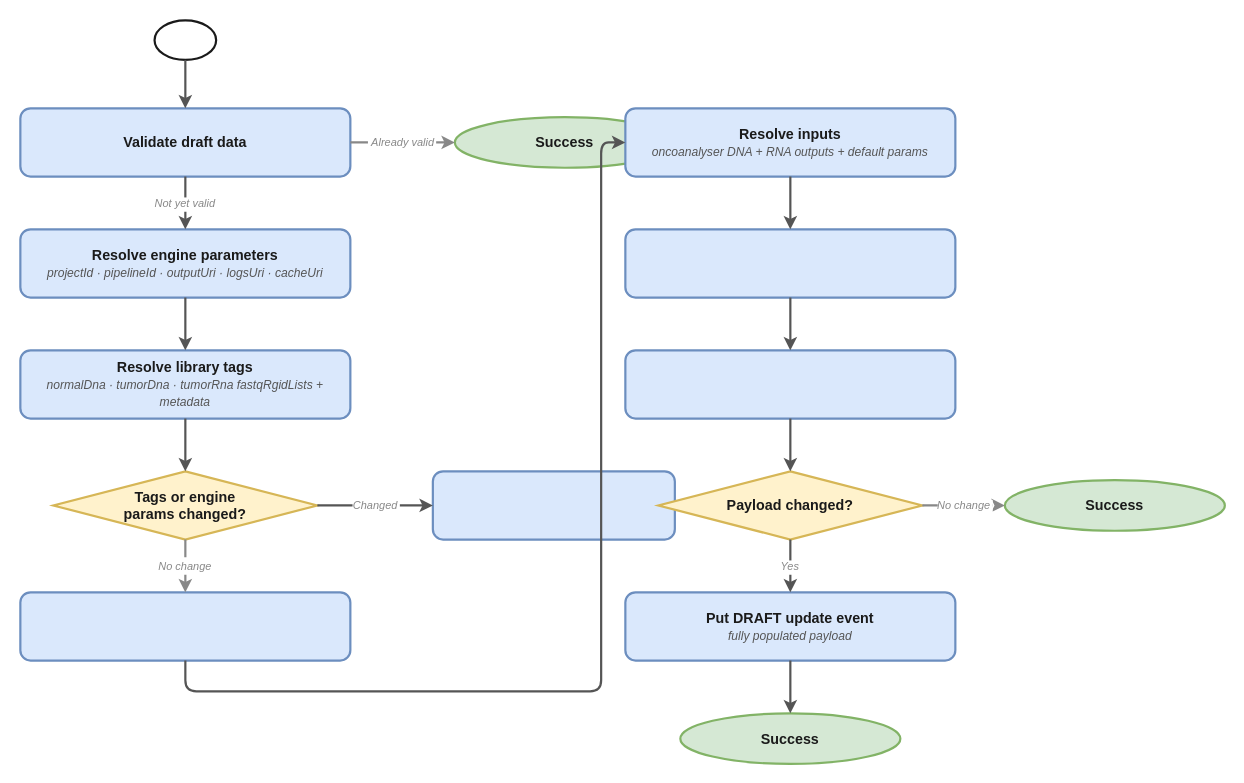
The diagram is 1244 pixels wide and 783 high, and some of its shapes have lost their labels. The box of each missing label's shape, as (x1, y1, x2, y2) in pixels:
Add reference data HMF data path · genome reference: (624, 228, 956, 298)
Compare payload generate WRU object + diff old vs new: (624, 349, 956, 419)
Put DRAFT update event tags / params updated: (431, 470, 675, 540)
Resolve readsets normalDna · tumorDna · tumorRna library readsets: (19, 591, 351, 661)
Start: (153, 19, 217, 61)
